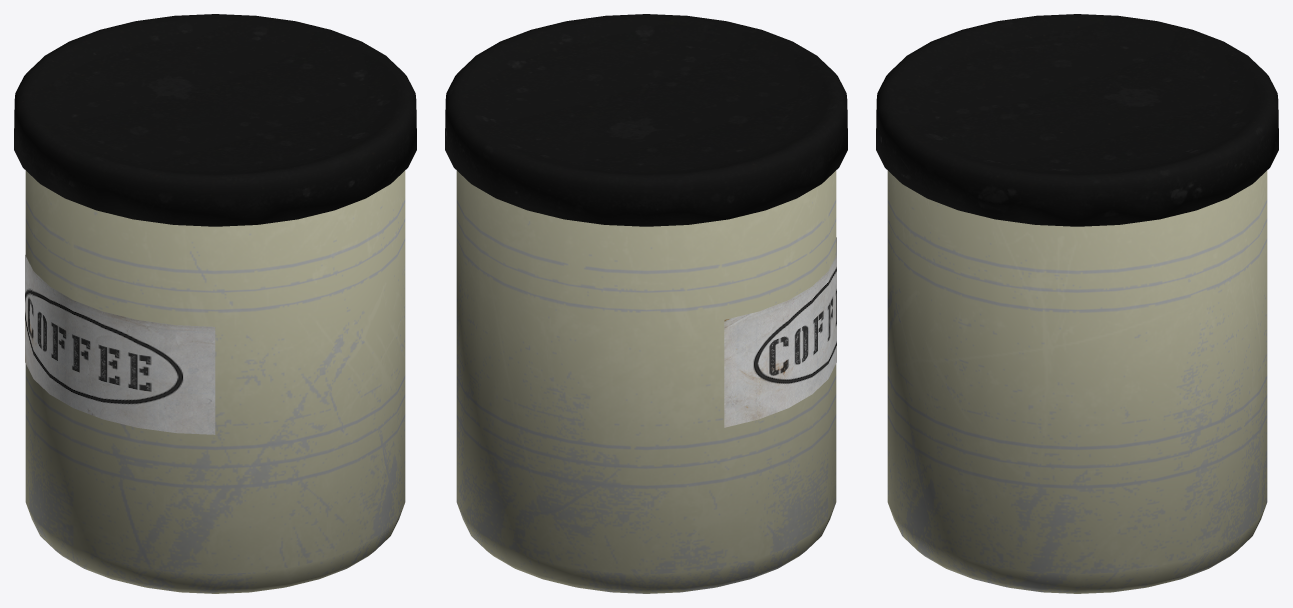
Rendered from CoffeeJar.fbx.
The picture shows the model from 3 angles, left to right: view 1: azimuth 30°, elevation 25°; view 2: azimuth 150°, elevation 25°; view 3: azimuth 270°, elevation 25°; orthographic projection.
Visible parts, largest first — view 1: CoffeeJarMain, CoffeeJarTop, CoffeeJarTag01; view 2: CoffeeJarMain, CoffeeJarTop, CoffeeJarTag01; view 3: CoffeeJarMain, CoffeeJarTop.
Part boxes in pixels (left/top/right/bottom): CoffeeJarMain: left=25, top=170, right=405, bottom=593; CoffeeJarTop: left=14, top=14, right=416, bottom=226; CoffeeJarTag01: left=25, top=255, right=215, bottom=434; CoffeeJarMain: left=456, top=170, right=836, bottom=593; CoffeeJarTop: left=445, top=14, right=847, bottom=226; CoffeeJarTag01: left=724, top=237, right=836, bottom=427; CoffeeJarMain: left=887, top=170, right=1267, bottom=593; CoffeeJarTop: left=876, top=14, right=1278, bottom=226.
Bounding box in the file's own units: 30.87 × 36.12 × 30.7.
Materials: 2 (2 with a texture image).
